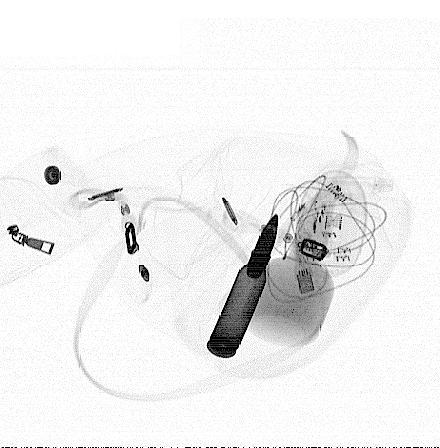Bullet: (205, 210, 278, 360)
